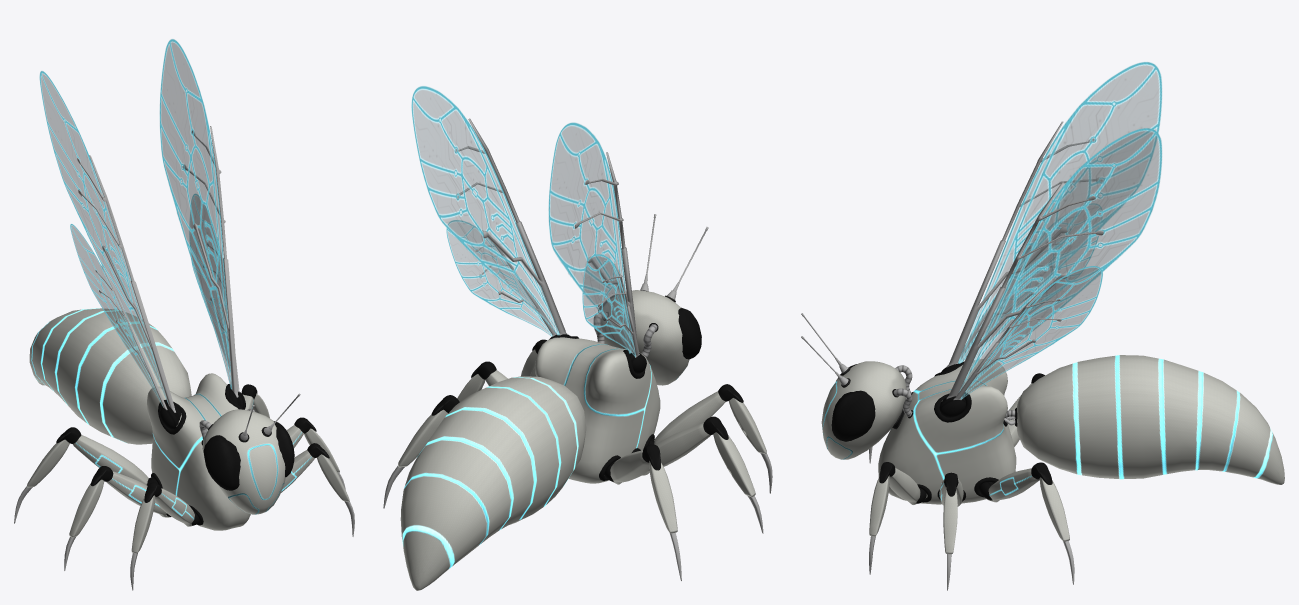
The model's file is mechanical_wasp.glb.
3 renders of one model, left to right at view 1: azimuth 30°, elevation 25°; view 2: azimuth 150°, elevation 25°; view 3: azimuth 270°, elevation 25°, orthographic. The views are drawn at different scales.
Visible parts, largest first — view 1: Object_3; view 2: Object_3; view 3: Object_3.
Part boxes in pixels (bbox=[...]): Object_3: bbox=[14, 39, 354, 590]; Object_3: bbox=[383, 86, 772, 590]; Object_3: bbox=[801, 62, 1284, 590].
Bounding box in the file's own units: 6.5 × 9.96 × 9.31.
1 material, 1 textured.
